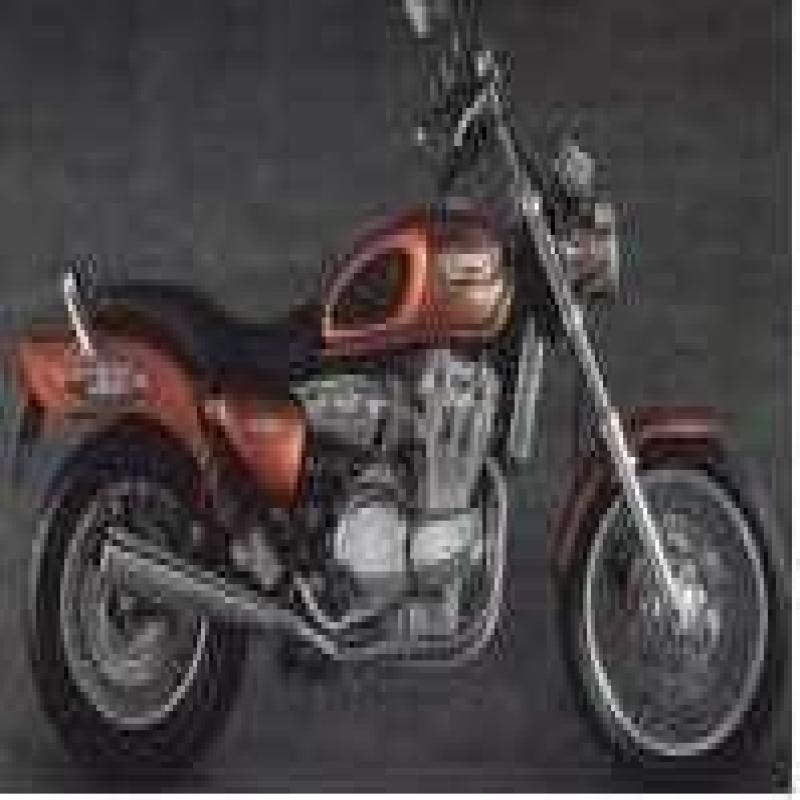bike: (9, 4, 749, 798)
